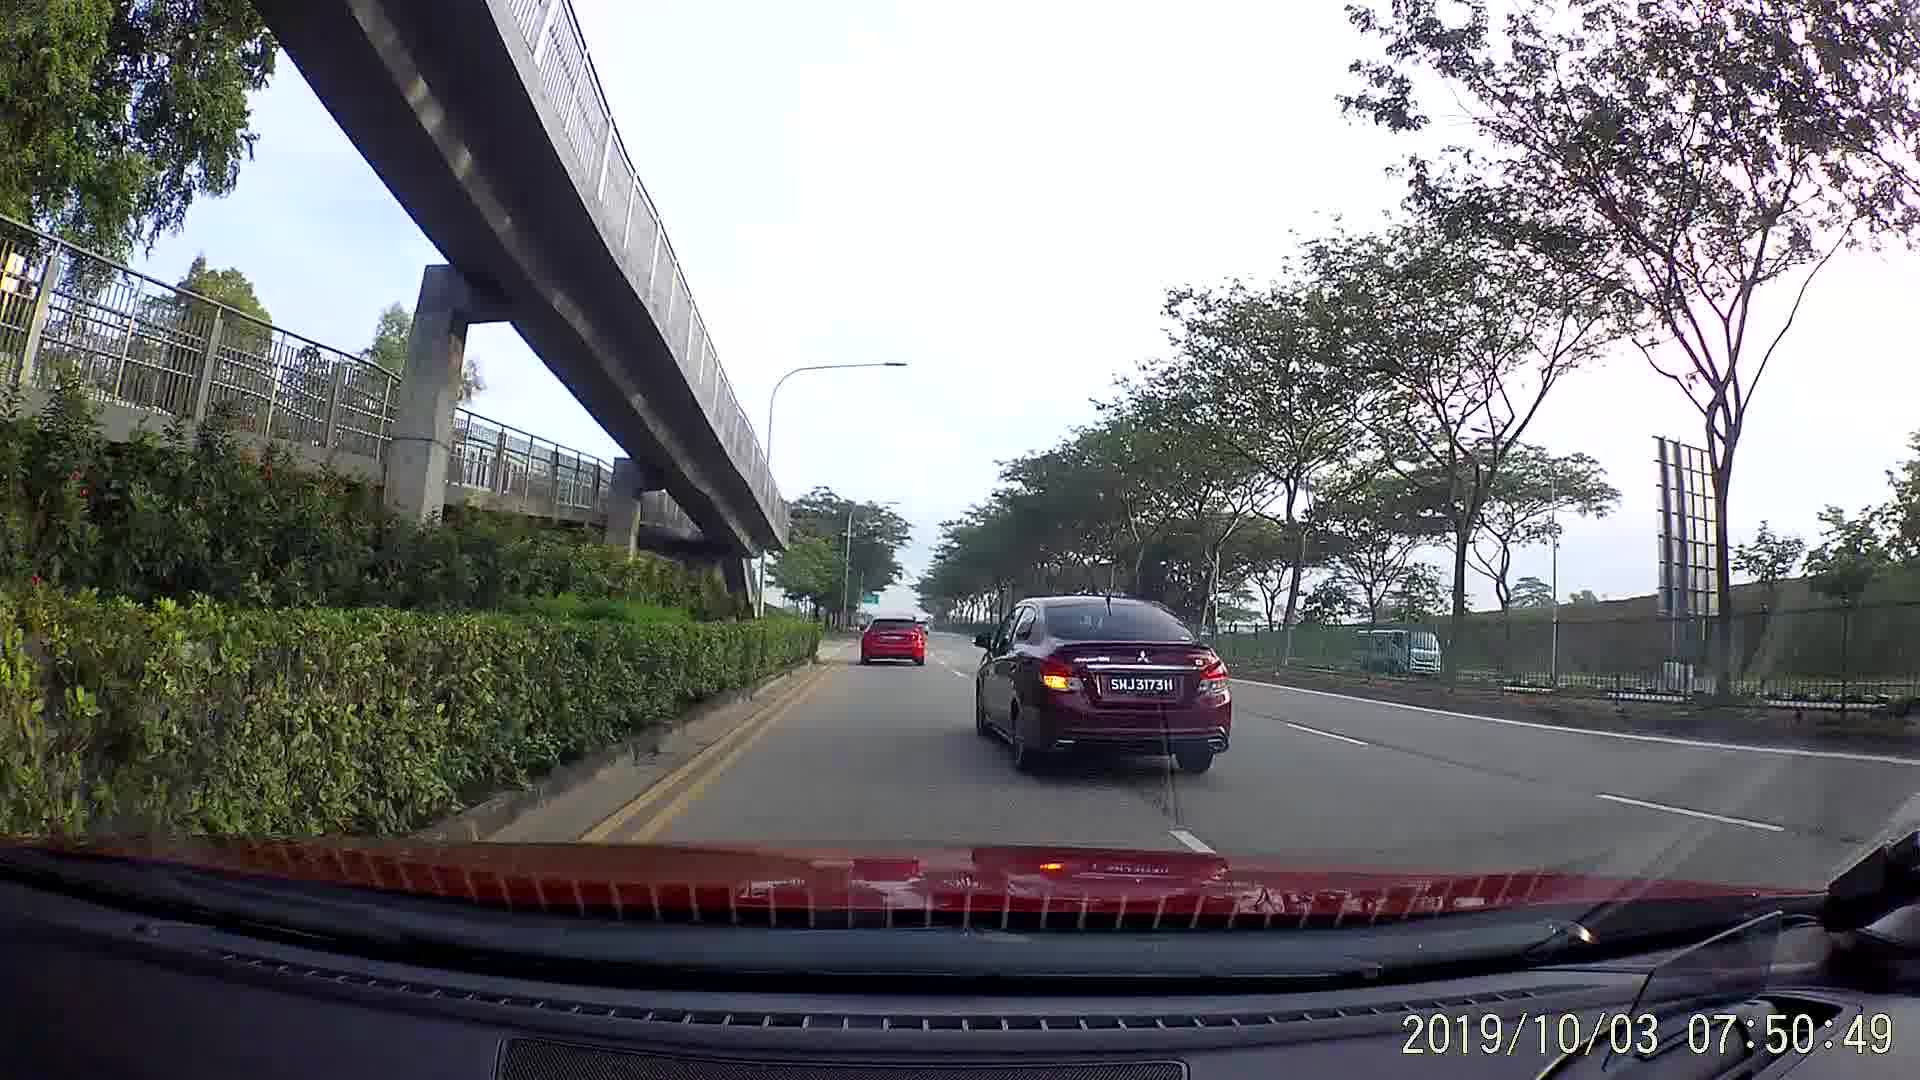car: (972, 596, 1232, 778), (858, 611, 924, 669)
